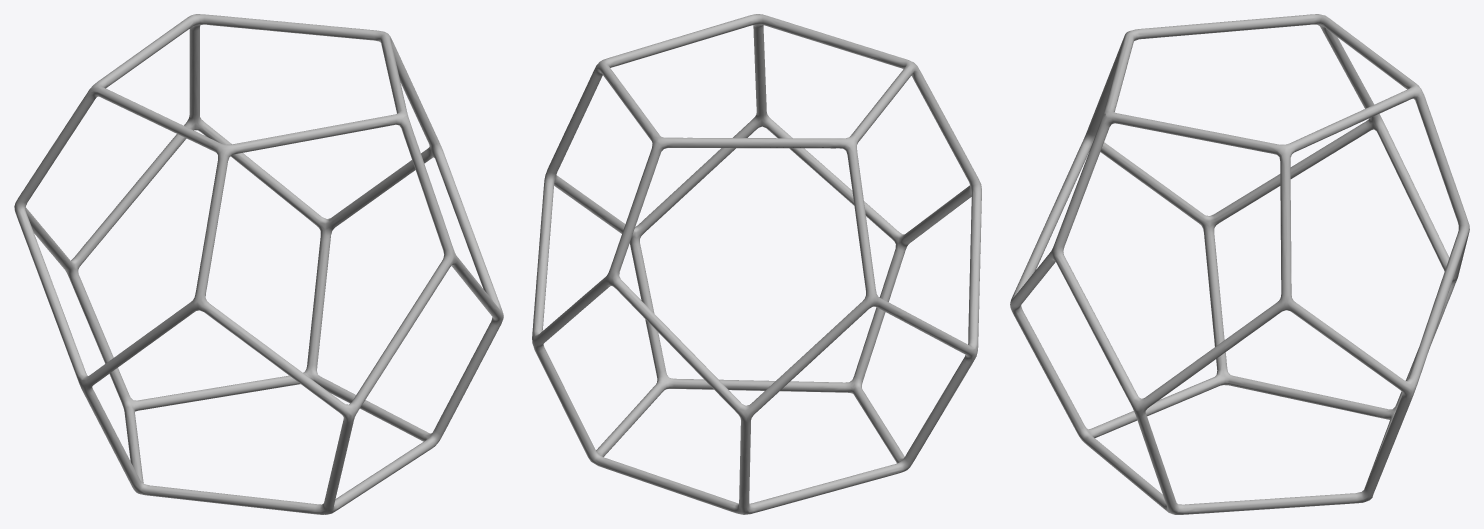
The model's file is DecorationDecahedron.fbx.
The picture shows the model from 3 angles, left to right: view 1: azimuth 30°, elevation 25°; view 2: azimuth 150°, elevation 25°; view 3: azimuth 270°, elevation 25°; orthographic projection.
Visible parts, largest first — view 1: DecorationDecahedron001; view 2: DecorationDecahedron001; view 3: DecorationDecahedron001.
Boxes of the visible parts, bbox=[...] form: DecorationDecahedron001: bbox=[14, 14, 503, 514]; DecorationDecahedron001: bbox=[532, 14, 981, 514]; DecorationDecahedron001: bbox=[1010, 14, 1469, 514].
Bounding box in the file's own units: 24.5 × 21.84 × 24.44.
